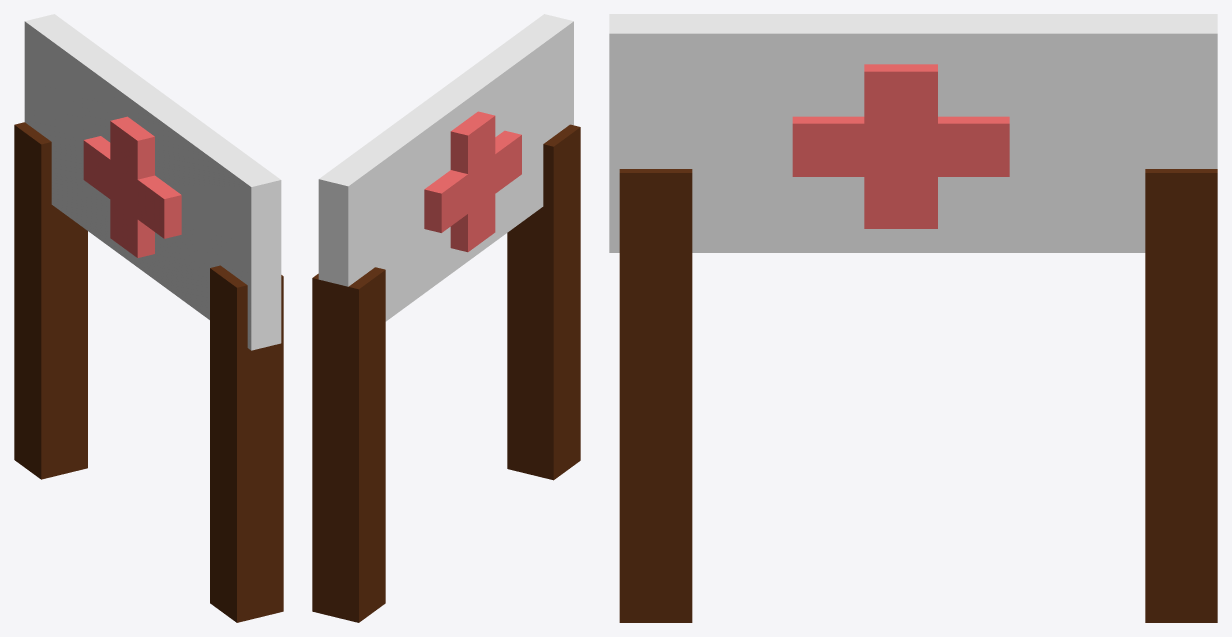
The model's file is Tabela.fbx.
3 renders of one model, left to right at view 1: azimuth 30°, elevation 25°; view 2: azimuth 150°, elevation 25°; view 3: azimuth 270°, elevation 25°, orthographic. The views are drawn at different scales.
Visible parts, largest first — view 1: pasted__pCube6.001; view 2: pasted__pCube6.001; view 3: pasted__pCube6.001.
Part boxes in pixels (x1=…): pasted__pCube6.001: x1=14, y1=14, x2=283, y2=622; pasted__pCube6.001: x1=312, y1=14, x2=580, y2=622; pasted__pCube6.001: x1=609, y1=14, x2=1217, y2=622.
Bounding box in the file's own units: 14.18 × 102 × 96.01.
